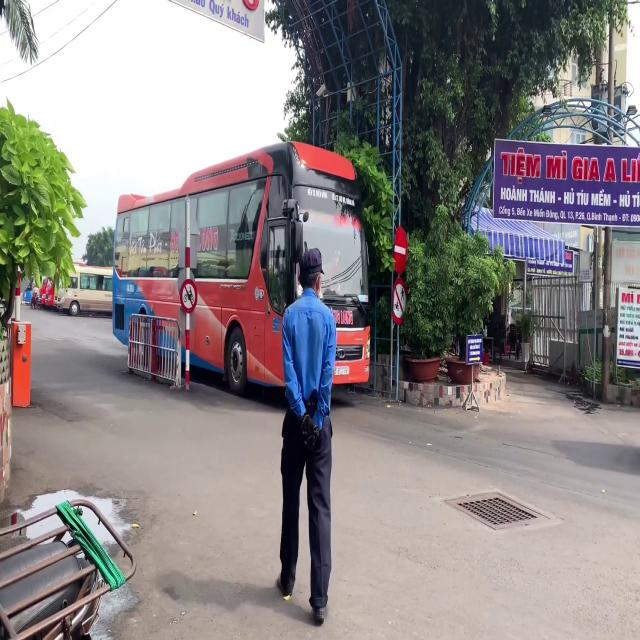bien_trang: (335, 366, 349, 376)
